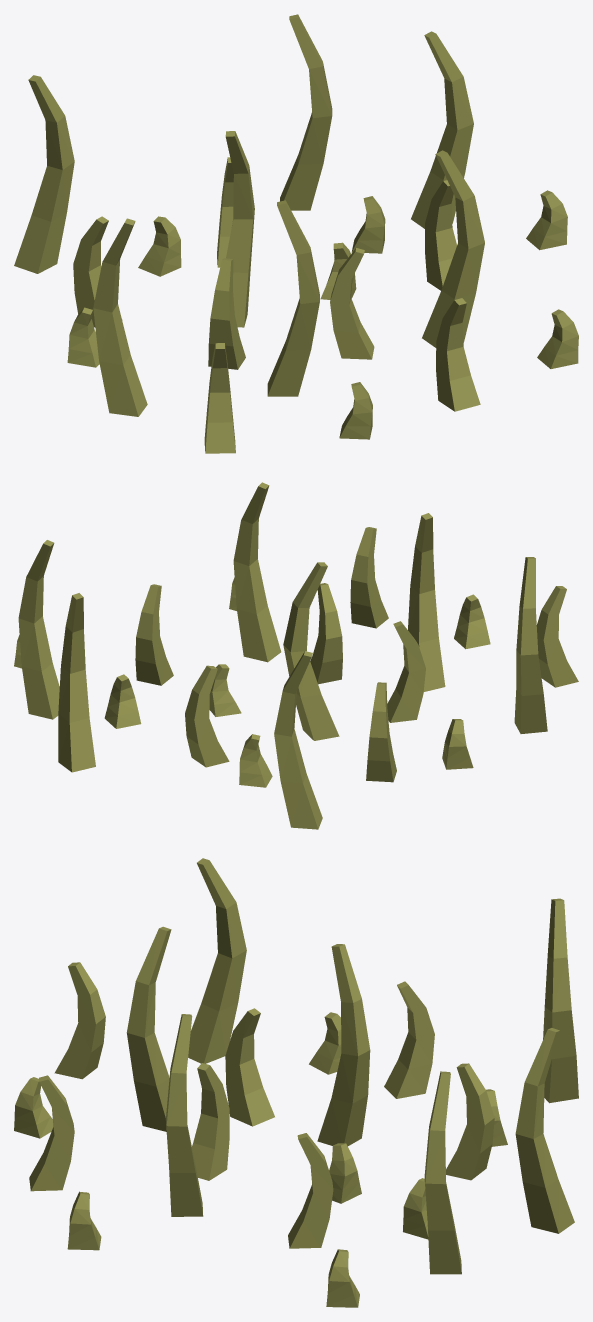
Rendered from Forest_GrassCluster1.fbx.
3 views of the same model, one above another, from view 1: azimuth 30°, elevation 25°; view 2: azimuth 150°, elevation 25°; view 3: azimuth 270°, elevation 25° (orthographic). The views are drawn at different scales.
Parts seen in each view (by area): view 1: Cube.008; view 2: Cube.008; view 3: Cube.008.
Boxes of the visible parts, box(x1,y1,x2,y2) form: Cube.008: box(14, 14, 578, 453); Cube.008: box(14, 482, 578, 829); Cube.008: box(14, 858, 578, 1307).
Size of the model in its own units: 212 by 73.3 by 192.
